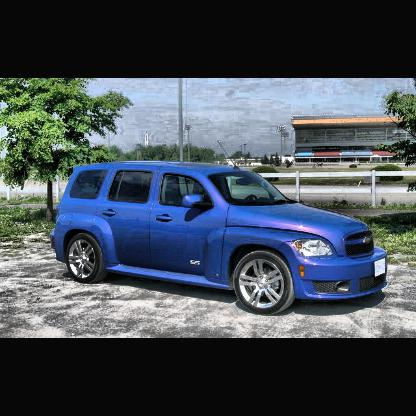Chevrolet HHR SS 2010: (50, 158, 393, 319)
